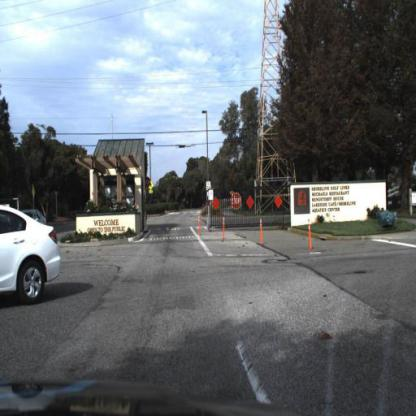car: (1, 205, 64, 307), (15, 204, 52, 225)
